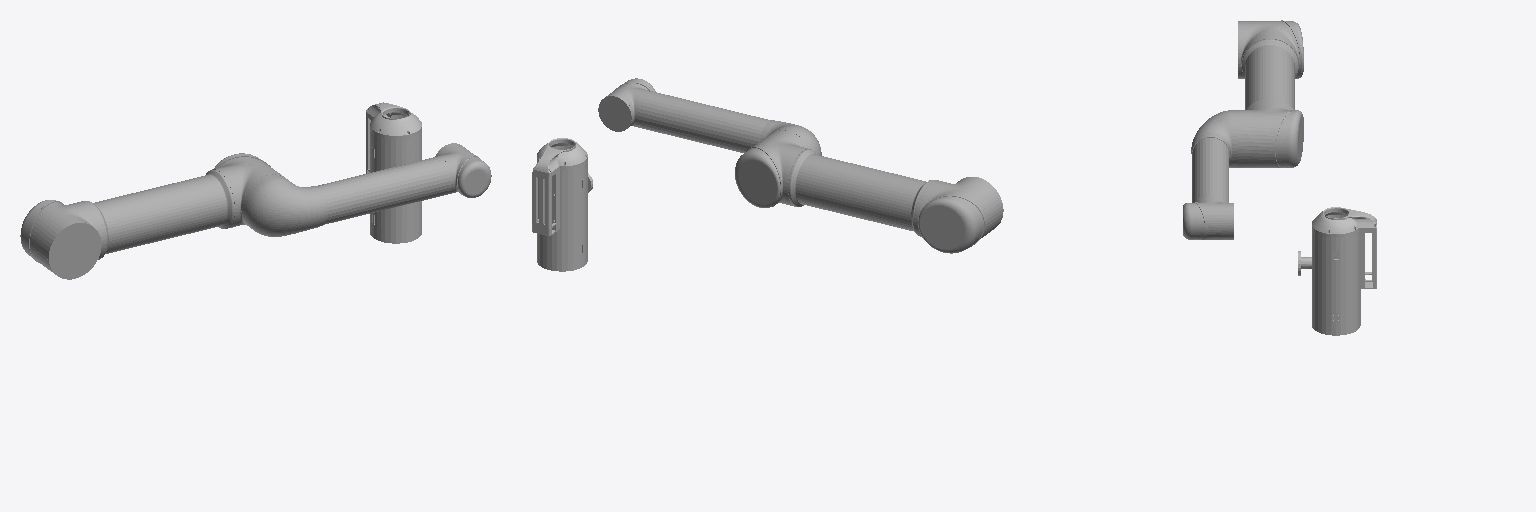
The robot description file, URDF, robot "endo":
<?xml version="1.0" encoding="utf-8"?>
<!-- =================================================================================== -->
<!-- |    This document was autogenerated by xacro from ur5_with_htr.xacro             | -->
<!-- |    EDITING THIS FILE BY HAND IS NOT RECOMMENDED                                 | -->
<!-- =================================================================================== -->
<robot name="endo">
  <!-- measured from model -->
  <link name="base_link">
    <visual>
      <origin rpy="0 0 3.14159265359" xyz="0 0 0"/>
      <geometry>
        <mesh filename="package://endo_description/meshes/visual/base.dae"/>
      </geometry>
      <material name="LightGrey">
        <color rgba="0.7 0.7 0.7 1.0"/>
      </material>
    </visual>
    <collision>
      <origin rpy="0 0 3.14159265359" xyz="0 0 0"/>
      <geometry>
        <mesh filename="package://endo_description/meshes/collision/base.stl"/>
      </geometry>
    </collision>
    <inertial>
      <mass value="4.0"/>
      <origin rpy="0 0 0" xyz="0.0 0.0 0.0"/>
      <inertia ixx="0.00443333156" ixy="0.0" ixz="0.0" iyy="0.00443333156" iyz="0.0" izz="0.0072"/>
    </inertial>
  </link>
  <joint name="shoulder_pan_joint" type="revolute">
    <parent link="base_link"/>
    <child link="shoulder_link"/>
    <origin rpy="0 0 3.14159265359" xyz="0 0 0.089159"/>
    <axis xyz="0 0 1"/>
    <limit effort="150.0" lower="-6.28318530718" upper="6.28318530718" velocity="3.15"/>
    <dynamics damping="0.0" friction="0.0"/>
  </joint>
  <link name="shoulder_link">
    <visual>
      <origin rpy="0 0 3.14159265359" xyz="0 0 0"/>
      <geometry>
        <mesh filename="package://endo_description/meshes/visual/shoulder.dae"/>
      </geometry>
      <material name="LightGrey">
        <color rgba="0.7 0.7 0.7 1.0"/>
      </material>
    </visual>
    <collision>
      <origin rpy="0 0 3.14159265359" xyz="0 0 0"/>
      <geometry>
        <mesh filename="package://endo_description/meshes/collision/shoulder.stl"/>
      </geometry>
    </collision>
    <inertial>
      <mass value="3.7"/>
      <origin rpy="0 0 0" xyz="0.0 0.0 0.0"/>
      <inertia ixx="0.0149723523444" ixy="0.0" ixz="0.0" iyy="0.0149723523444" iyz="0.0" izz="0.01040625"/>
    </inertial>
  </link>
  <joint name="shoulder_lift_joint" type="revolute">
    <parent link="shoulder_link"/>
    <child link="upper_arm_link"/>
    <origin rpy="1.570796327 0 0" xyz="0 0 0"/>
    <axis xyz="0 0 1"/>
    <limit effort="150.0" lower="-3.14159265359" upper="3.14159265359" velocity="3.15"/>
    <dynamics damping="0.0" friction="0.0"/>
  </joint>
  <link name="upper_arm_link">
    <visual>
      <origin rpy="1.57079632679 0 -1.57079632679" xyz="0 0 0.136"/>
      <geometry>
        <mesh filename="package://endo_description/meshes/visual/upperarm.dae"/>
      </geometry>
      <material name="LightGrey">
        <color rgba="0.7 0.7 0.7 1.0"/>
      </material>
    </visual>
    <collision>
      <origin rpy="1.57079632679 0 -1.57079632679" xyz="0 0 0.136"/>
      <geometry>
        <mesh filename="package://endo_description/meshes/collision/upperarm.stl"/>
      </geometry>
    </collision>
    <inertial>
      <mass value="8.393"/>
      <origin rpy="0 1.57079632679 0" xyz="-0.2125 0.0 0.136"/>
      <inertia ixx="0.133885781862" ixy="0.0" ixz="0.0" iyy="0.133885781862" iyz="0.0" izz="0.0151074"/>
    </inertial>
  </link>
  <joint name="elbow_joint" type="revolute">
    <parent link="upper_arm_link"/>
    <child link="forearm_link"/>
    <origin rpy="0 0 0" xyz="-0.425 0 0"/>
    <axis xyz="0 0 1"/>
    <limit effort="150.0" lower="-3.14159265359" upper="3.14159265359" velocity="3.15"/>
    <dynamics damping="0.0" friction="0.0"/>
  </joint>
  <link name="forearm_link">
    <visual>
      <origin rpy="1.57079632679 0 -1.57079632679" xyz="0 0 0.0165"/>
      <geometry>
        <mesh filename="package://endo_description/meshes/visual/forearm.dae"/>
      </geometry>
      <material name="LightGrey">
        <color rgba="0.7 0.7 0.7 1.0"/>
      </material>
    </visual>
    <collision>
      <origin rpy="1.57079632679 0 -1.57079632679" xyz="0 0 0.0165"/>
      <geometry>
        <mesh filename="package://endo_description/meshes/collision/forearm.stl"/>
      </geometry>
    </collision>
    <inertial>
      <mass value="2.275"/>
      <origin rpy="0 1.57079632679 0" xyz="-0.2125 0.0 0.0165"/>
      <inertia ixx="0.0312167910289" ixy="0.0" ixz="0.0" iyy="0.0312167910289" iyz="0.0" izz="0.004095"/>
    </inertial>
  </link>
  <joint name="wrist_1_joint" type="revolute">
    <parent link="forearm_link"/>
    <child link="wrist_1_link"/>
    <origin rpy="0 0 0" xyz="-0.39225 0 0.10915"/>
    <axis xyz="0 0 1"/>
    <limit effort="28.0" lower="-3.14159265359" upper="3.14159265359" velocity="3.2"/>
    <dynamics damping="0.0" friction="0.0"/>
  </joint>
  <link name="wrist_1_link">
    <visual>
      <origin rpy="1.57079632679 0 0" xyz="0 0 -0.093"/>
      <geometry>
        <mesh filename="package://endo_description/meshes/visual/wrist1.dae"/>
      </geometry>
      <material name="LightGrey">
        <color rgba="0.7 0.7 0.7 1.0"/>
      </material>
    </visual>
    <collision>
      <origin rpy="1.57079632679 0 0" xyz="0 0 -0.093"/>
      <geometry>
        <mesh filename="package://endo_description/meshes/collision/wrist1.stl"/>
      </geometry>
    </collision>
    <inertial>
      <mass value="1.219"/>
      <origin rpy="0 0 0" xyz="0.0 0.0 0.0"/>
      <inertia ixx="0.00262426443592" ixy="0.0" ixz="0.0" iyy="0.00262426443592" iyz="0.0" izz="0.0034284375"/>
    </inertial>
  </link>
  <joint name="wrist_2_joint" type="revolute">
    <parent link="wrist_1_link"/>
    <child link="wrist_2_link"/>
    <origin rpy="1.570796327 0 0" xyz="0 -0.09465 -1.9413039509e-11"/>
    <axis xyz="0 0 1"/>
    <limit effort="28.0" lower="-3.14159265359" upper="3.14159265359" velocity="3.2"/>
    <dynamics damping="0.0" friction="0.0"/>
  </joint>
  <link name="wrist_2_link">
    <visual>
      <origin rpy="0 0 0" xyz="0 0 -0.095"/>
      <geometry>
        <mesh filename="package://endo_description/meshes/visual/wrist2.dae"/>
      </geometry>
      <material name="LightGrey">
        <color rgba="0.7 0.7 0.7 1.0"/>
      </material>
    </visual>
    <collision>
      <origin rpy="0 0 0" xyz="0 0 -0.095"/>
      <geometry>
        <mesh filename="package://endo_description/meshes/collision/wrist2.stl"/>
      </geometry>
    </collision>
    <inertial>
      <mass value="1.219"/>
      <origin rpy="0 0 0" xyz="0.0 0.0 0.0"/>
      <inertia ixx="0.00178515266177" ixy="0.0" ixz="0.0" iyy="0.00178515266177" iyz="0.0" izz="0.0021942"/>
    </inertial>
  </link>
  <joint name="wrist_3_joint" type="revolute">
    <parent link="wrist_2_link"/>
    <child link="wrist_3_link"/>
    <origin rpy="1.57079632659 3.14159265359 3.14159265359" xyz="0 0.0823 -1.68800121668e-11"/>
    <axis xyz="0 0 1"/>
    <limit effort="28.0" lower="-3.14159265359" upper="3.14159265359" velocity="3.2"/>
    <dynamics damping="0.0" friction="0.0"/>
  </joint>
  <link name="wrist_3_link">
    <visual>
      <origin rpy="1.57079632679 0 0" xyz="0 0 -0.0818"/>
      <geometry>
        <mesh filename="package://endo_description/meshes/visual/wrist3.dae"/>
      </geometry>
      <material name="LightGrey">
        <color rgba="0.7 0.7 0.7 1.0"/>
      </material>
    </visual>
    <collision>
      <origin rpy="1.57079632679 0 0" xyz="0 0 -0.0823"/>
      <geometry>
        <mesh filename="package://endo_description/meshes/collision/wrist3.stl"/>
      </geometry>
    </collision>
    <inertial>
      <mass value="0.1879"/>
      <origin rpy="0 0 0" xyz="0.0 0.0 -0.01525"/>
      <inertia ixx="8.06247260834e-05" ixy="0.0" ixz="0.0" iyy="8.06247260834e-05" iyz="0.0" izz="0.0001321171875"/>
    </inertial>
  </link>
  <joint name="ee_fixed_joint" type="fixed">
    <parent link="wrist_3_link"/>
    <child link="ee_link"/>
    <origin rpy="0.0 -1.57079632679 1.57079632679" xyz="0.0 0.0 0.0"/>
  </joint>
  <link name="ee_link">
    <collision>
      <geometry>
        <box size="0.01 0.01 0.01"/>
      </geometry>
      <origin rpy="0 0 0" xyz="-0.01 0 0"/>
    </collision>
  </link>
  <joint name="wrist_3_passive_joint" type="fixed">
    <origin rpy="0 0 0" xyz="0 0 0"/>
    <parent link="wrist_3_link"/>
    <child link="tool0"/>
  </joint>
  <transmission name="shoulder_pan_trans">
    <type>transmission_interface/SimpleTransmission</type>
    <joint name="shoulder_pan_joint">
      <hardwareInterface>hardware_interface/PositionJointInterface</hardwareInterface>
    </joint>
    <actuator name="shoulder_pan_motor">
      <mechanicalReduction>1</mechanicalReduction>
    </actuator>
  </transmission>
  <transmission name="shoulder_lift_trans">
    <type>transmission_interface/SimpleTransmission</type>
    <joint name="shoulder_lift_joint">
      <hardwareInterface>hardware_interface/PositionJointInterface</hardwareInterface>
    </joint>
    <actuator name="shoulder_lift_motor">
      <mechanicalReduction>1</mechanicalReduction>
    </actuator>
  </transmission>
  <transmission name="elbow_trans">
    <type>transmission_interface/SimpleTransmission</type>
    <joint name="elbow_joint">
      <hardwareInterface>hardware_interface/PositionJointInterface</hardwareInterface>
    </joint>
    <actuator name="elbow_motor">
      <mechanicalReduction>1</mechanicalReduction>
    </actuator>
  </transmission>
  <transmission name="wrist_1_trans">
    <type>transmission_interface/SimpleTransmission</type>
    <joint name="wrist_1_joint">
      <hardwareInterface>hardware_interface/PositionJointInterface</hardwareInterface>
    </joint>
    <actuator name="wrist_1_motor">
      <mechanicalReduction>1</mechanicalReduction>
    </actuator>
  </transmission>
  <transmission name="wrist_2_trans">
    <type>transmission_interface/SimpleTransmission</type>
    <joint name="wrist_2_joint">
      <hardwareInterface>hardware_interface/PositionJointInterface</hardwareInterface>
    </joint>
    <actuator name="wrist_2_motor">
      <mechanicalReduction>1</mechanicalReduction>
    </actuator>
  </transmission>
  <transmission name="wrist_3_trans">
    <type>transmission_interface/SimpleTransmission</type>
    <joint name="wrist_3_joint">
      <hardwareInterface>hardware_interface/PositionJointInterface</hardwareInterface>
    </joint>
    <actuator name="wrist_3_motor">
      <mechanicalReduction>1</mechanicalReduction>
    </actuator>
  </transmission>
  <gazebo reference="shoulder_link">
    <selfCollide>true</selfCollide>
  </gazebo>
  <gazebo reference="upper_arm_link">
    <selfCollide>true</selfCollide>
  </gazebo>
  <gazebo reference="forearm_link">
    <selfCollide>true</selfCollide>
  </gazebo>
  <gazebo reference="wrist_1_link">
    <selfCollide>true</selfCollide>
  </gazebo>
  <gazebo reference="wrist_3_link">
    <selfCollide>true</selfCollide>
  </gazebo>
  <gazebo reference="wrist_2_link">
    <selfCollide>true</selfCollide>
  </gazebo>
  <gazebo reference="ee_link">
    <selfCollide>true</selfCollide>
  </gazebo>
  <!-- ROS base_link to UR 'Base' Coordinates transform -->
  <link name="base"/>
  <joint name="base_link-base_fixed_joint" type="fixed">
    <!-- NOTE: this rotation is only needed as long as base_link itself is
                 not corrected wrt the real robot (ie: rotated over 180
                 degrees)
      -->
    <origin rpy="0 0 -3.14159265359" xyz="0 0 0"/>
    <parent link="base_link"/>
    <child link="base"/>
  </joint>
  <!-- Frame coincident with all-zeros TCP on UR controller -->
  <link name="tool0"/>
  <joint name="J7" type="fixed">
    <parent link="tool0"/>
    <child link="LINK7"/>
    <origin rpy="0 0 0" xyz="0 0 -0.0135"/>
  </joint>
  <link name="LINK7">
    <inertial>
      <origin rpy="0 0 0" xyz="2.31455226527066E-05 -0.00387688744223635 0.0981367759323445"/>
      <mass value="0.507250397051115"/>
      <inertia ixx="0.00166103614182656" ixy="-6.61684042563449E-07" ixz="-4.40382594514631E-07" iyy="0.00064142259778365" iyz="2.62042834067411E-05" izz="0.00189492280952751"/>
    </inertial>
    <visual>
      <geometry>
        <mesh filename="package://endo_description/meshes/visual/LINK7.dae"/>
      </geometry>
      <origin rpy="0 0 0" xyz="0 0 0"/>
      <material name="">
        <color rgba="0.752941176470588 0.752941176470588 0.752941176470588 1"/>
      </material>
    </visual>
    <collision>
      <origin rpy="0 0 0" xyz="0 0 0"/>
      <geometry>
        <mesh filename="package://endo_description/meshes/collision/LINK7.STL"/>
      </geometry>
    </collision>
  </link>
  <joint name="J8" type="revolute">
    <parent link="LINK7"/>
    <child link="SCOPE"/>
    <origin rpy="1.5708 0 0" xyz="0 -0.13722 0.091235"/>
    <axis xyz="0 0 -1"/>
    <limit effort="150.0" lower="-6" upper="6" velocity="3.15"/>
  </joint>
  <link name="SCOPE">
    <inertial>
      <origin rpy="0 0 0" xyz="0.000499304671632852 0.00223530441796144 -0.0847443350054828"/>
      <mass value="0.444647660330151"/>
      <inertia ixx="0.00189128705782164" ixy="-2.67338006490719E-07" ixz="-2.12769869497079E-07" iyy="0.00188997865857834" iyz="-1.22500667076317E-06" izz="0.000392923038098468"/>
    </inertial>
    <visual>
      <origin rpy="0 0 0" xyz="0 0 0"/>
      <geometry>
        <mesh filename="package://endo_description/meshes/visual/SCOPE.dae"/>
      </geometry>
      <material name="">
        <color rgba="0.792156862745098 0.819607843137255 0.933333333333333 1"/>
      </material>
    </visual>
    <collision>
      <origin rpy="0 0 0" xyz="0 0 0"/>
      <geometry>
        <mesh filename="package://endo_description/meshes/collision/SCOPE.STL"/>
      </geometry>
    </collision>
  </link>  
  <link name="camera">
    <visual>
      <origin xyz="0 0 0" rpy="0 0 0" />
      <geometry>
        <cylinder length="0.000001" radius="0.000001"/>
      </geometry>
    </visual>
    <collision>
      <origin xyz="0 0 0" rpy="0 0 0" />
      <geometry>
        <cylinder length="0.000001" radius="0.000001"/>
      </geometry>
    </collision>
    <inertial>
      <origin xyz="0.000499304671632852 0.00223530441796144 -0.0847443350054828" rpy="0 0 0" />
      <mass value="0.444647660330151" />
      <inertia ixx="0.00189128705782164" ixy="-2.67338006490719E-07" ixz="-2.12769869497079E-07" iyy="0.00188997865857834" iyz="-1.22500667076317E-06" izz="0.000392923038098468" />
    </inertial>
  </link>
  <joint name="J9" type="revolute">
    <!-- The parent link must be read from the robot model it is attached to. -->
    <parent link="SCOPE"/>
    <child link="camera"/>
    <origin rpy="3.14159 -1.0472 1.5708" xyz="0 0 0.37"/>
    <axis xyz="0 -1 0"/>
    <limit lower="-6" upper="6" effort="150" velocity="3.15" />
  </joint>

  <transmission name="J8_trans">
    <type>transmission_interface/SimpleTransmission</type>
    <joint name="J8">
      <hardwareInterface>hardware_interface/PositionJointInterface</hardwareInterface>
    </joint>
    <actuator name="J8_motor">
      <mechanicalReduction>1</mechanicalReduction>
    </actuator>
  </transmission>

  <transmission name="J9_trans">
    <type>transmission_interface/SimpleTransmission</type>
    <joint name="J9">
      <hardwareInterface>hardware_interface/PositionJointInterface</hardwareInterface>
    </joint>
    <actuator name="J9_motor">
      <mechanicalReduction>1</mechanicalReduction>
    </actuator>
  </transmission>

  <gazebo reference="LINK7">
    <selfCollide>true</selfCollide>
  </gazebo>
  <gazebo reference="SCOPE">
    <selfCollide>true</selfCollide>
  </gazebo>
  <gazebo reference="SPHERE">
    <selfCollide>true</selfCollide>
  </gazebo>
  <gazebo reference="camera">
    <selfCollide>true</selfCollide>
    <material>Gazebo/Green</material>
    <sensor name="camera1" type="camera">
      <update_rate>30.0</update_rate>
      <visualize>true</visualize>
      <camera name="head">
        <horizontal_fov>1.3962634</horizontal_fov>
        <image>
          <width>800</width>
          <height>800</height>
          <format>R8G8B8</format>
        </image>
        <clip>
          <near>0.02</near>
          <far>300</far>
        </clip>
      </camera>
      <plugin filename="libgazebo_ros_camera.so" name="camera_controller">
        <alwaysOn>true</alwaysOn>
        <cameraName>/tip_camera</cameraName>
      </plugin>
    </sensor>
  </gazebo>
  <gazebo>
    <plugin filename="libgazebo_ros_control.so" name="ros_control">
	    </plugin>
  </gazebo>
  <!-- define the ur5's position and orientation in the world coordinate system -->
  <link name="world"/>
  <joint name="world_joint" type="fixed">
    <parent link="world"/>
    <child link="base_link"/>
    <!-- TODO: check base_link name of robot -->
    <origin rpy="0.0 0.0 0.0" xyz="0.0 0.0 0.0"/>
  </joint>
</robot>

--- What the picture shows (computed from the rendered views, not written in the file) ---
3 views of the same robot in one strip: view 1: azimuth 30°, elevation 25°; view 2: azimuth 150°, elevation 25°; view 3: azimuth 270°, elevation 25° (orthographic).
Model endo with 14 links and 13 joints (8 revolute, 5 fixed), rooted at world, posed every joint at zero.
Links seen in each view (by area): view 1: upper_arm_link, forearm_link, LINK7; view 2: upper_arm_link, forearm_link, LINK7; view 3: upper_arm_link, LINK7, forearm_link.
Boxes of the visible links, x1=… form: upper_arm_link: x1=20, y1=153, x2=284, y2=279; forearm_link: x1=243, y1=143, x2=491, y2=236; LINK7: x1=366, y1=102, x2=421, y2=243; upper_arm_link: x1=735, y1=130, x2=1003, y2=253; forearm_link: x1=598, y1=78, x2=821, y2=155; LINK7: x1=532, y1=138, x2=592, y2=271; upper_arm_link: x1=1238, y1=20, x2=1303, y2=167; LINK7: x1=1298, y1=207, x2=1376, y2=335; forearm_link: x1=1183, y1=110, x2=1237, y2=239.
Size in the robot's own frame: 0.9262 by 0.3931 by 0.6614 metres.
Meshes: 9 distinct files referenced, 3 mesh visuals loaded (3 Collada DAE); not drawn: 6 (reference not matched to a file when rendering).